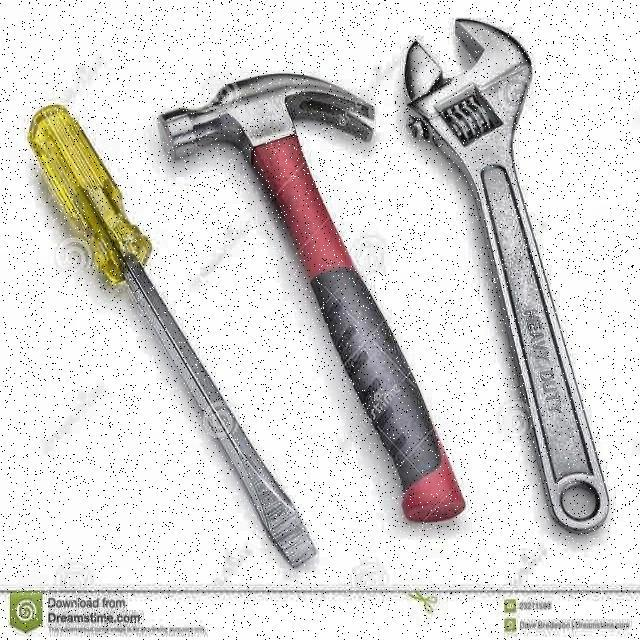hammer: (159, 72, 482, 524)
